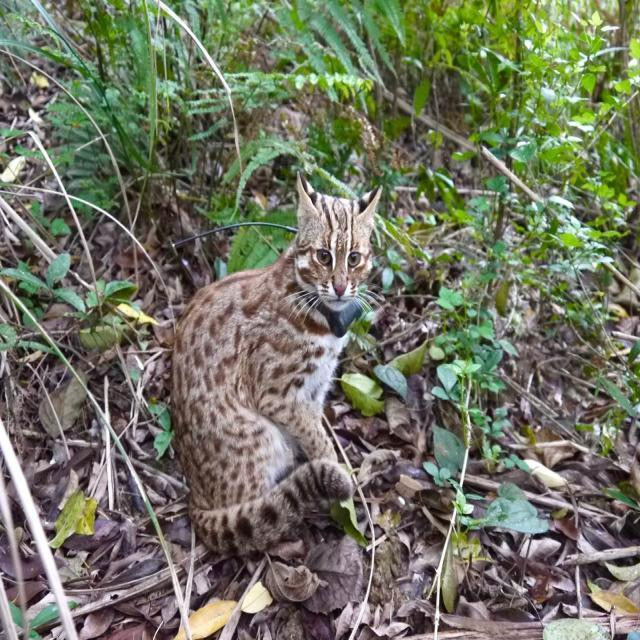leopard: (196, 176, 411, 621)
